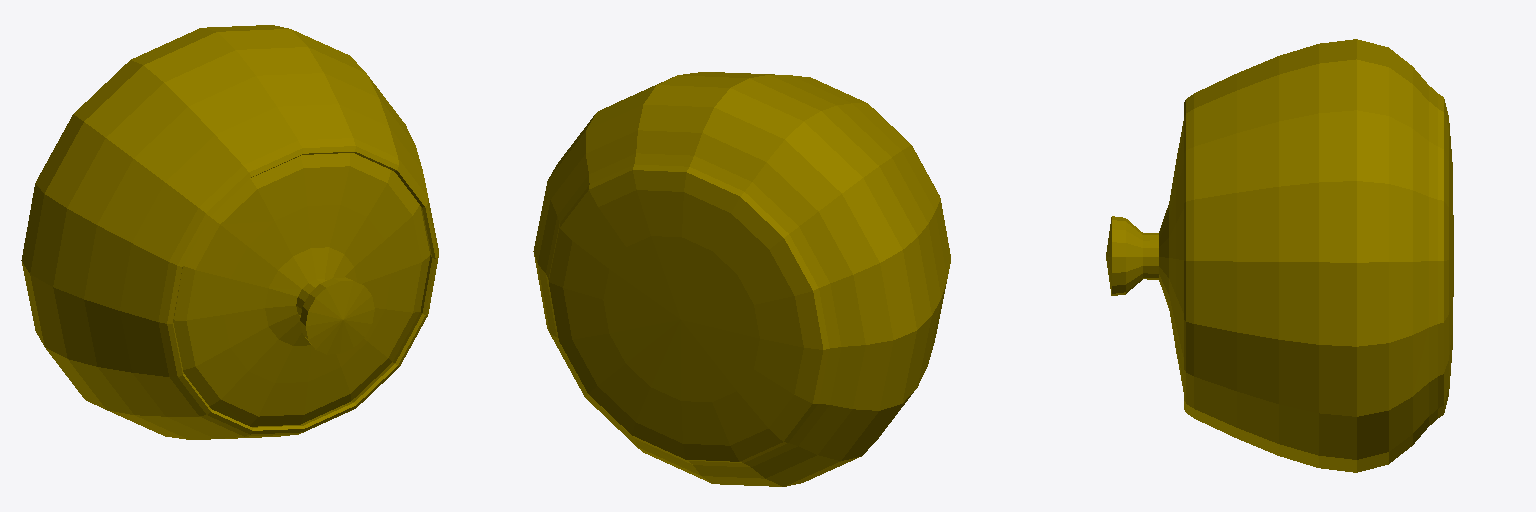
The model's file is testBumpRefl.obj.
The picture shows the model from 3 angles: view 1: azimuth 30°, elevation 25°; view 2: azimuth 150°, elevation 25°; view 3: azimuth 270°, elevation 25°; orthographic projection.
Parts seen in each view (by area): view 1: BumpRefl; view 2: BumpRefl; view 3: BumpRefl.
Boxes of the visible parts, <box> form: BumpRefl: <box>21,25,438,439</box>; BumpRefl: <box>533,72,950,486</box>; BumpRefl: <box>1106,39,1453,472</box>.
Size of the model in its own units: 0.9991 by 0.9992 by 0.8037.